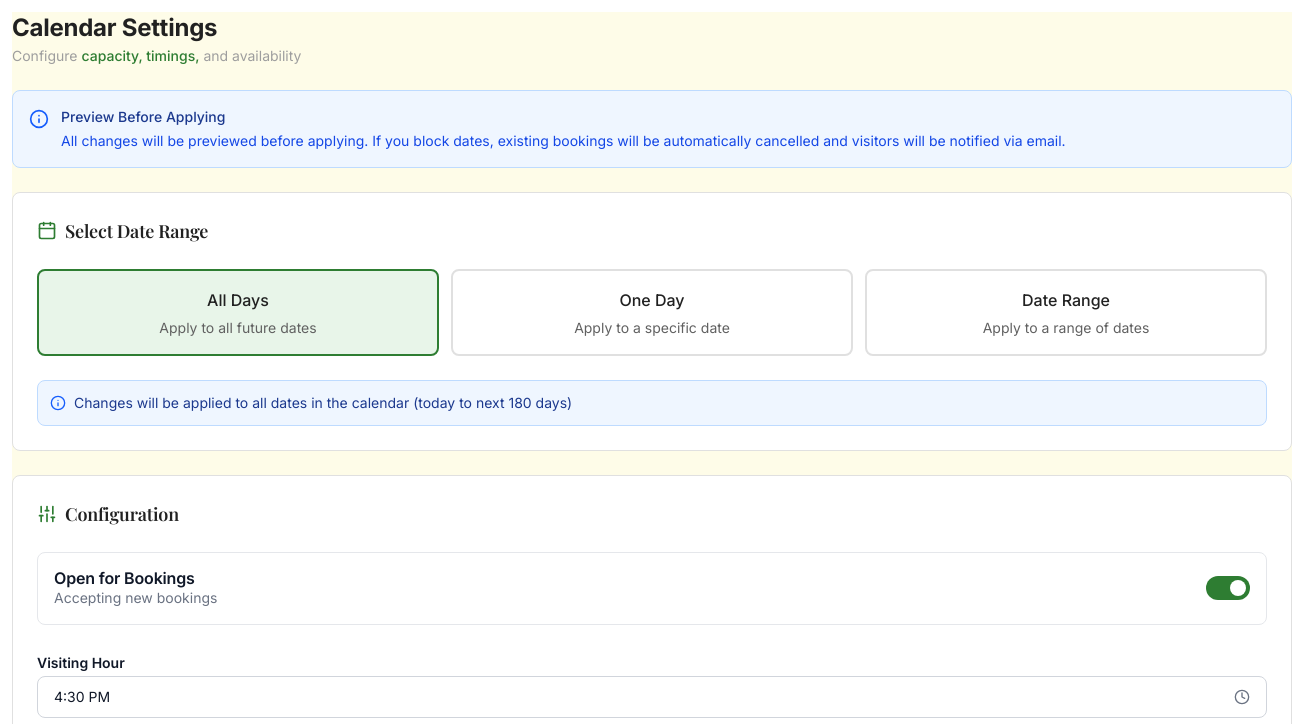
it: Settings Page UI › shows warning when blocking dates
What coordinates should you click on to do the following:
click the switch
I would click on:
 (1228, 588)
Its box is x1=1206 y1=576 x2=1250 y2=600.
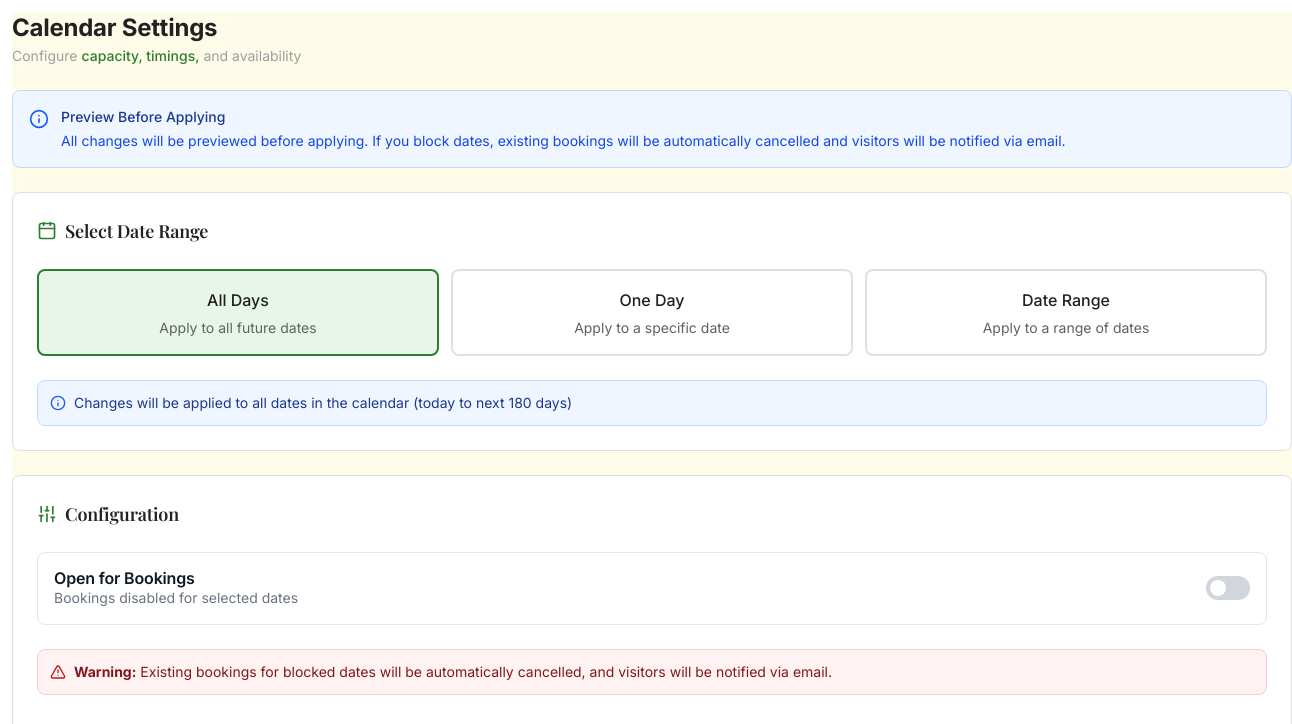
Expected: the text "Existing bookings for blocked dates will be automatically cancelled" is shown, x1=136 y1=663 x2=832 y2=680
